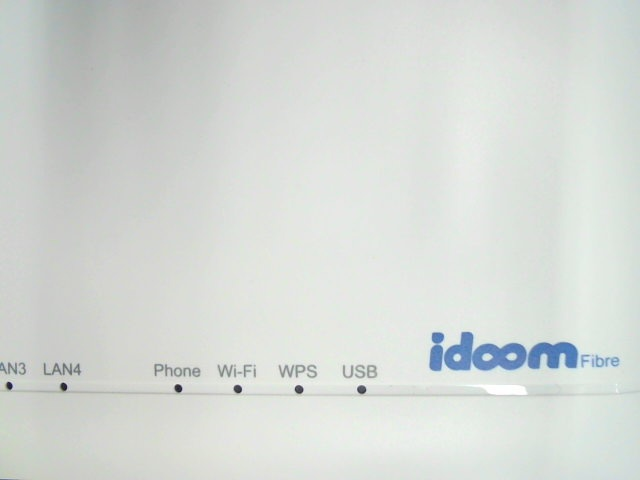BB_idoom: (417, 327, 620, 380)
